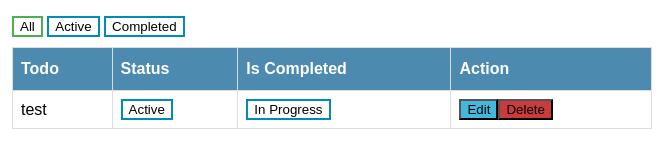
ToDoList component testing › testing Active on click change button class should
Click the 1st button "Active". click: click(73, 26)
box: [47,16,100,37]
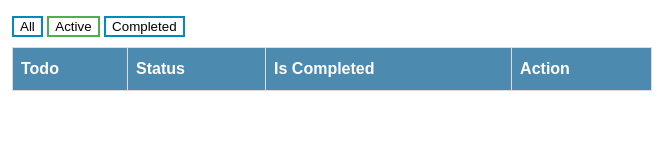
Expected: the button "Active" is disabled, [47,16,100,37]
